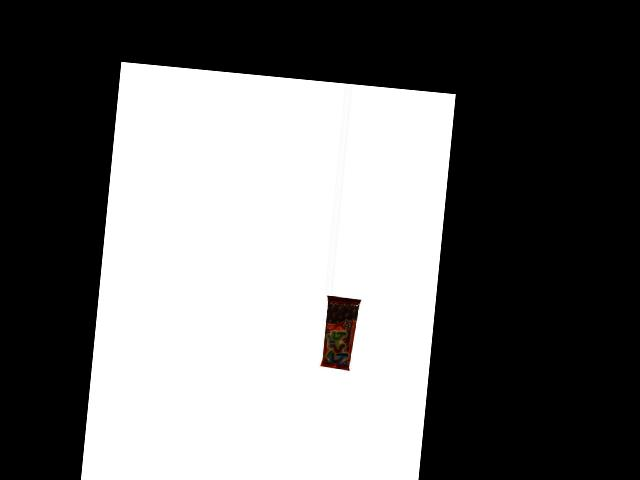chocolate: (320, 295, 359, 371)
